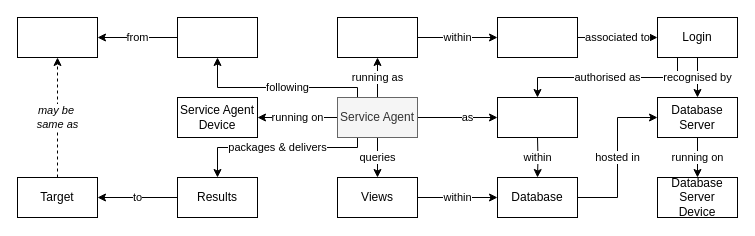
The diagram is 755 pixels wide and 236 high, and some of its shapes have lost their labels. Here are the shapes that lost their labels. From the top down, the centre of each, then its label:
point 57,37: (optional) Orchestrator
point 217,37: Instructions
point 377,37: Service Account
point 537,37: Domain Group
point 537,117: User
